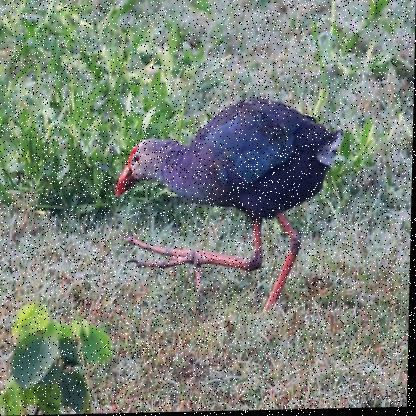Burung: (113, 98, 344, 321)
